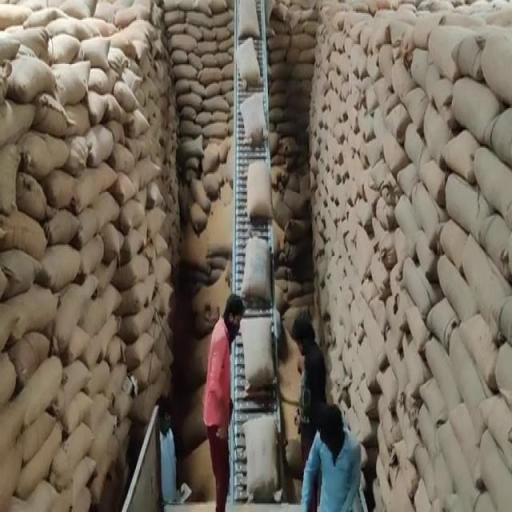c-belt-sack-count: (243, 414, 278, 502), (242, 317, 274, 390), (242, 237, 270, 302), (246, 161, 271, 220), (242, 93, 267, 145)
